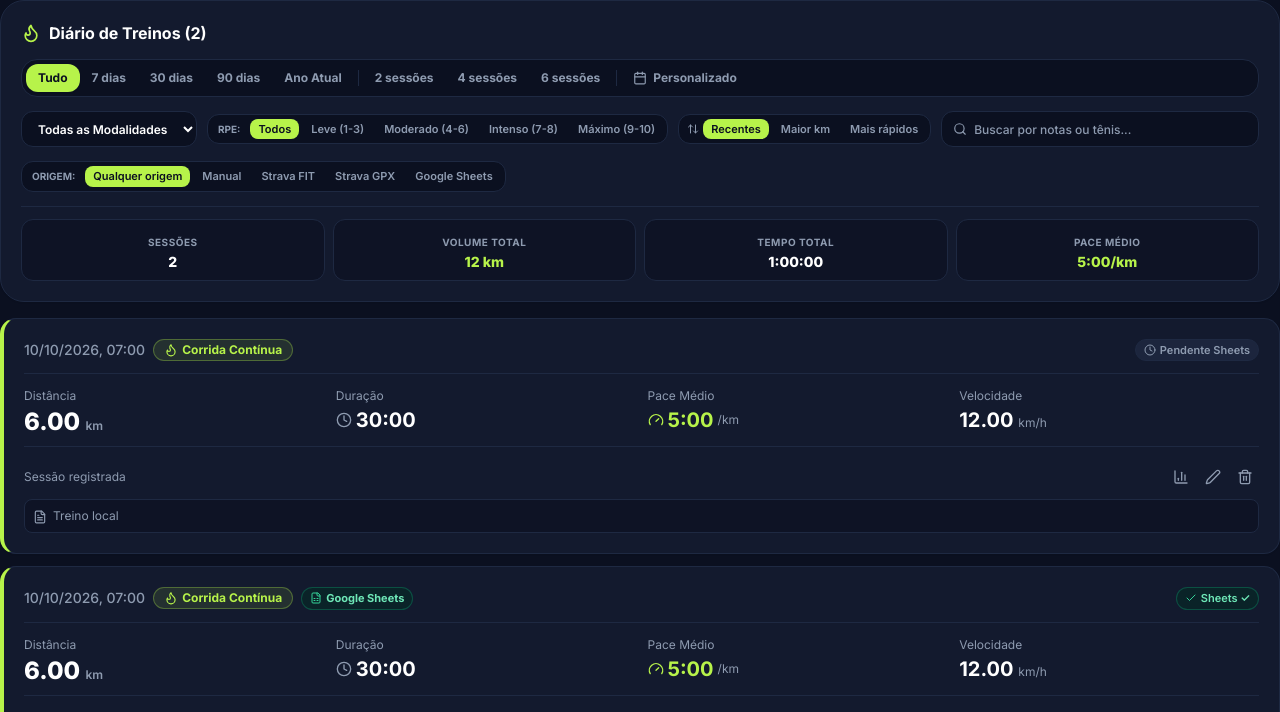
Test: Fase 6 — Frontend & UX: Sincronização Google Sheets › 2. Filtro por Origem 'sheets' na TrainingList › filtra corretamente os treinos importados do Google Sheets via botão filter-source-sheets
Check: the element with test id "training-card-trn-manual" is shown, box [0,318,1279,554]
What coordinates should you click on to do the following:
click the button with test id "filter-source-sheets"
I would click on:
 (454, 176)
Its box is [407,166,501,186].
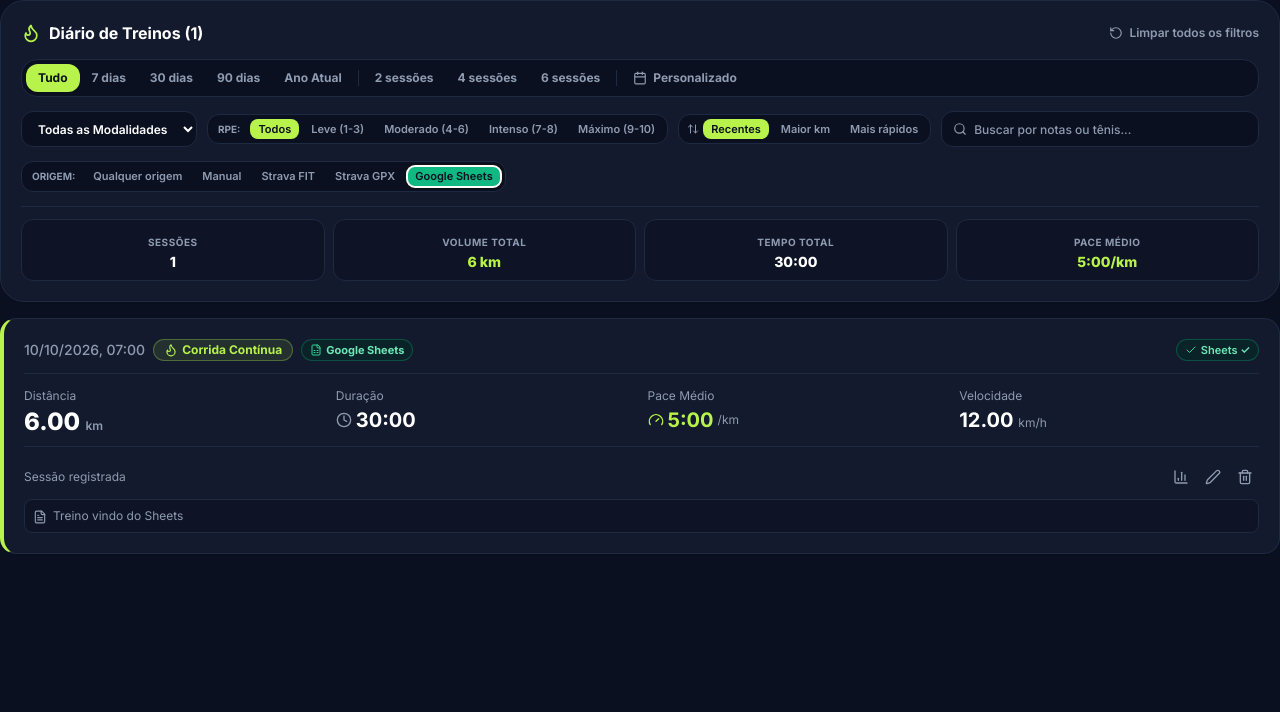
Check: the element with test id "training-card-trn-sheets" is shown, box [0,318,1279,554]
Check: the element with test id "training-card-trn-manual" is gone
